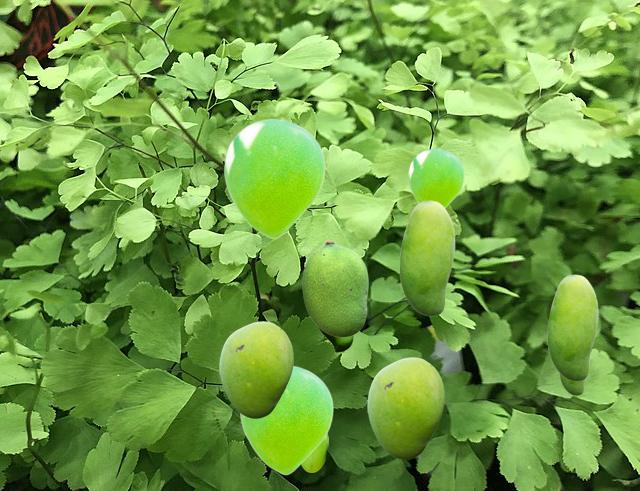green_mango: (224, 118, 324, 238), (240, 365, 332, 474), (367, 357, 443, 458), (219, 321, 292, 417), (399, 200, 454, 315), (302, 240, 367, 336), (547, 274, 597, 380), (408, 148, 463, 208), (301, 435, 327, 471), (317, 327, 352, 351), (559, 374, 585, 394)
